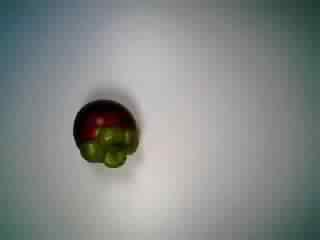mangosteen: (68, 97, 139, 169)
